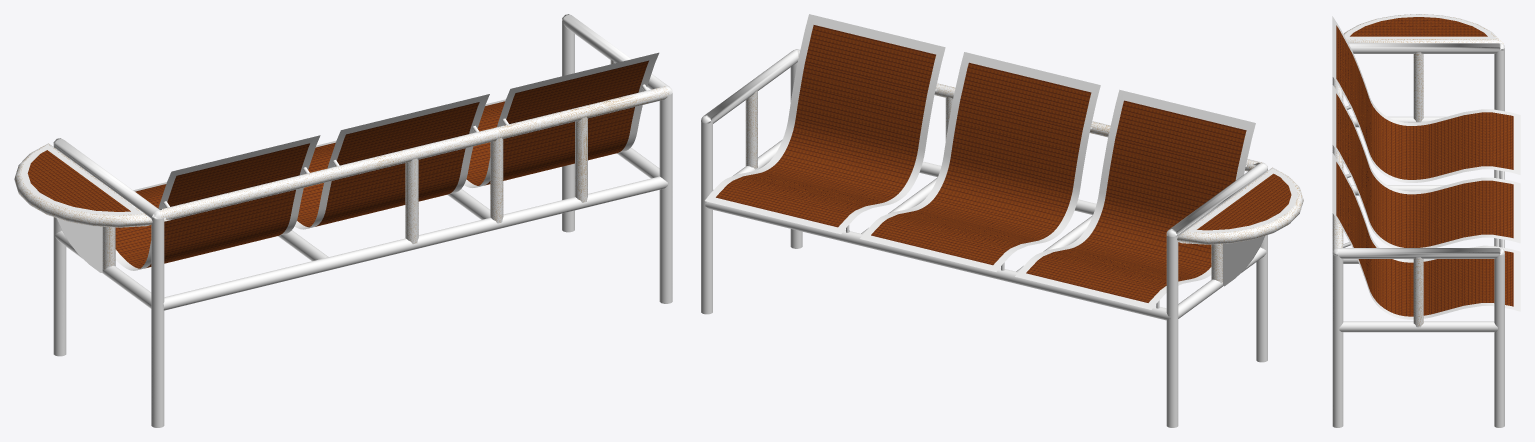
3 renders of one model, left to right at view 1: azimuth 30°, elevation 25°; view 2: azimuth 150°, elevation 25°; view 3: azimuth 270°, elevation 25°, orthographic. The views are drawn at different scales.
Parts seen in each view (by area): view 1: mesh9_mesh9-geometry, mesh5_mesh5-geometry, mesh1_mesh1-geometry, mesh11_mesh11-geometry, mesh10_mesh10-geometry, mesh6_mesh6-geometry, mesh4_mesh4-geometry, mesh12_mesh12-geometry, mesh3_mesh3-geometry; view 2: mesh9_mesh9-geometry, mesh1_mesh1-geometry, mesh5_mesh5-geometry, mesh10_mesh10-geometry, mesh6_mesh6-geometry, mesh3_mesh3-geometry, mesh4_mesh4-geometry, mesh12_mesh12-geometry, mesh11_mesh11-geometry; view 3: mesh9_mesh9-geometry, mesh1_mesh1-geometry, mesh10_mesh10-geometry, mesh5_mesh5-geometry, mesh3_mesh3-geometry, mesh4_mesh4-geometry, mesh6_mesh6-geometry, mesh11_mesh11-geometry.
Part boxes in pixels (x1,y1,x2,y2): mesh9_mesh9-geometry: (115,52,659,270); mesh5_mesh5-geometry: (55,147,667,310); mesh1_mesh1-geometry: (53,22,672,427); mesh11_mesh11-geometry: (158,86,669,221); mesh10_mesh10-geometry: (14,143,152,227); mesh6_mesh6-geometry: (102,59,614,269); mesh4_mesh4-geometry: (53,138,160,219); mesh12_mesh12-geometry: (56,218,102,272); mesh3_mesh3-geometry: (562,14,672,94); mesh9_mesh9-geometry: (705,14,1255,309); mesh1_mesh1-geometry: (701,62,1267,427); mesh5_mesh5-geometry: (705,139,1266,320); mesh10_mesh10-geometry: (1177,167,1303,244); mesh6_mesh6-geometry: (745,90,1222,282); mesh3_mesh3-geometry: (701,49,798,123); mesh4_mesh4-geometry: (1166,163,1267,236); mesh12_mesh12-geometry: (1223,236,1264,286); mesh11_mesh11-geometry: (797,49,1263,171); mesh9_mesh9-geometry: (1332,16,1520,319); mesh1_mesh1-geometry: (1332,49,1504,427); mesh10_mesh10-geometry: (1343,14,1504,45); mesh5_mesh5-geometry: (1339,116,1504,332); mesh3_mesh3-geometry: (1332,248,1504,258); mesh4_mesh4-geometry: (1348,43,1504,53); mesh6_mesh6-geometry: (1413,52,1423,327); mesh11_mesh11-geometry: (1332,77,1343,251).
Bounding box in the file's own units: 0.8849 × 0.3609 × 0.2944.
